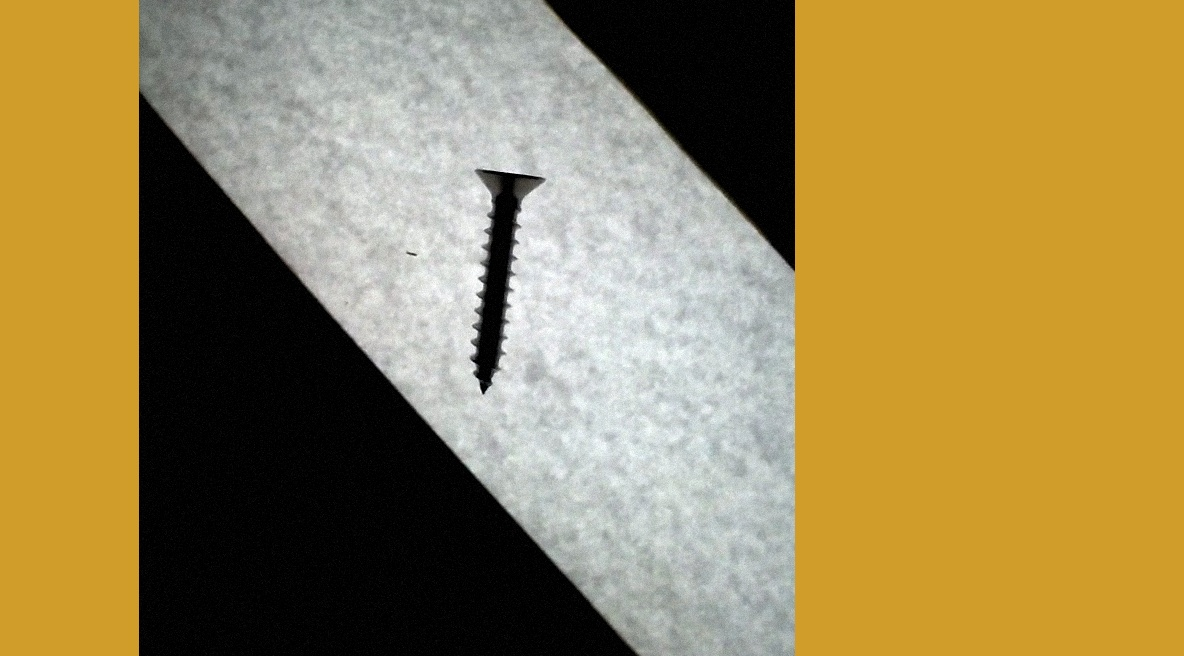S001: (447, 153, 561, 405)
